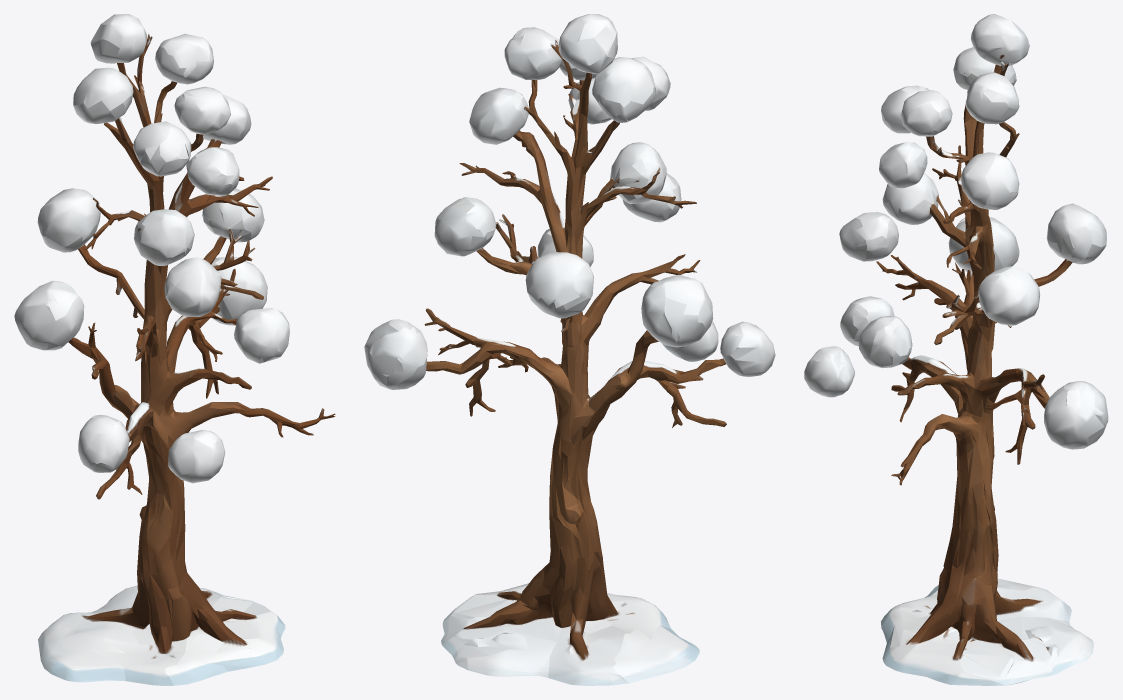
Rendered from snowball_tree.glb.
3 renders of one model, left to right at view 1: azimuth 30°, elevation 25°; view 2: azimuth 150°, elevation 25°; view 3: azimuth 270°, elevation 25°, orthographic. The views are drawn at different scales.
Size of the model in its own units: 0.9217 by 1.9 by 0.8703.
Materials: 1 (1 with a texture image).
